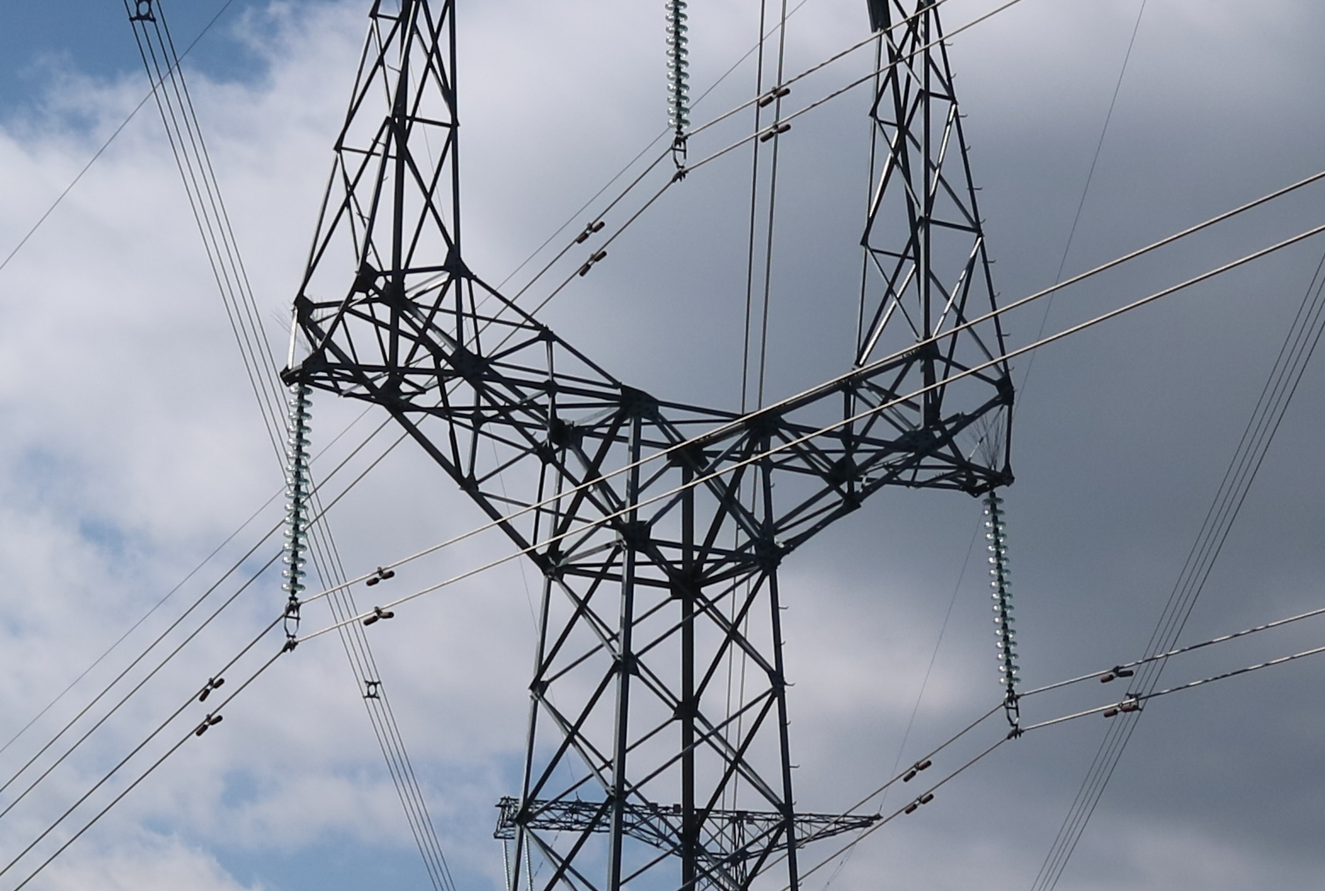damper: (359, 564, 399, 589), (197, 672, 228, 702), (578, 249, 608, 279), (574, 218, 605, 246), (758, 117, 794, 141), (900, 757, 934, 782), (1101, 698, 1145, 717), (195, 711, 225, 738), (757, 83, 792, 106), (361, 605, 397, 627), (1098, 664, 1137, 683), (902, 793, 935, 815)
